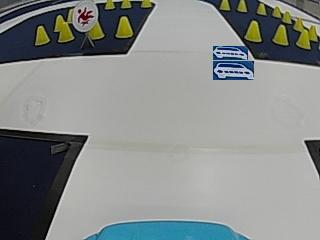cone: (244, 19, 262, 42), (56, 19, 73, 42), (115, 16, 132, 38), (273, 24, 288, 45), (34, 25, 49, 45), (296, 30, 310, 49), (89, 22, 104, 39), (256, 2, 267, 16), (272, 4, 281, 18), (237, 0, 247, 12), (220, 0, 230, 11), (283, 10, 291, 23), (104, 0, 114, 10), (121, 0, 131, 9), (141, 0, 151, 8)
tumble: (73, 2, 93, 29)
